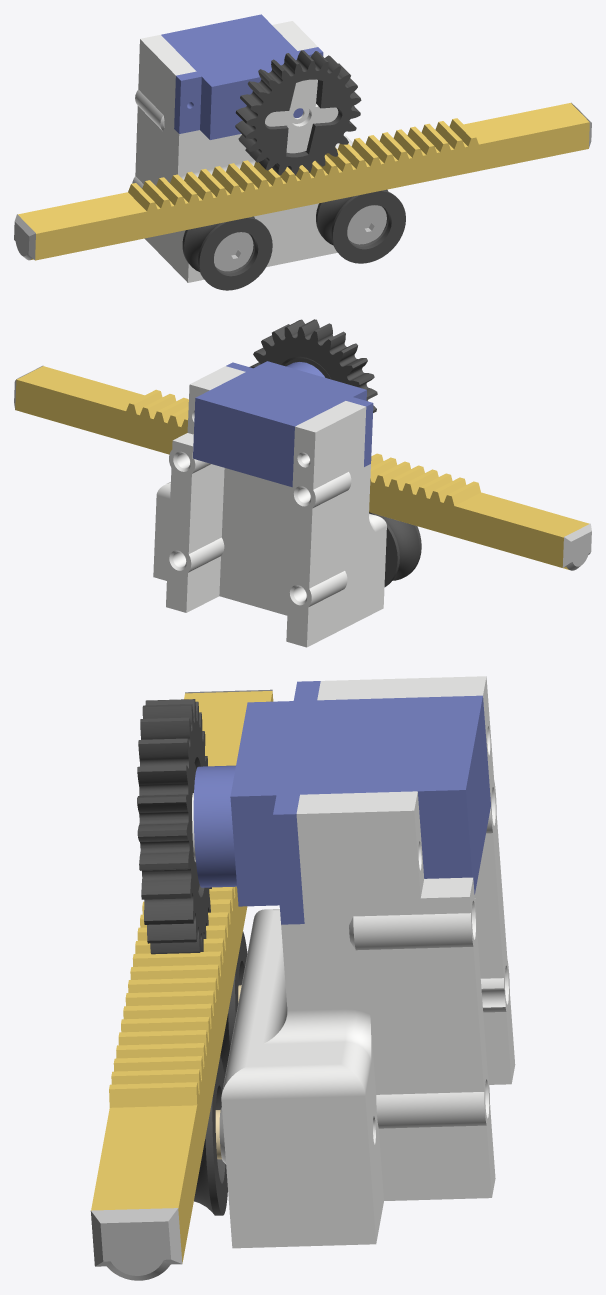
3 views of the same model, one above another, from view 1: azimuth 30°, elevation 25°; view 2: azimuth 150°, elevation 25°; view 3: azimuth 270°, elevation 25° (orthographic). The views are drawn at different scales.
Visible parts, largest first — view 1: 9G Servo Linear Actuator; view 2: 9G Servo Linear Actuator; view 3: 9G Servo Linear Actuator.
Part boxes in pixels (left/top/right/bottom): 9G Servo Linear Actuator: left=14, top=14, right=591, bottom=290; 9G Servo Linear Actuator: left=14, top=319, right=591, bottom=647; 9G Servo Linear Actuator: left=90, top=676, right=515, bottom=1280.
Size of the model in its own units: 12.67 by 5 by 4.3.
